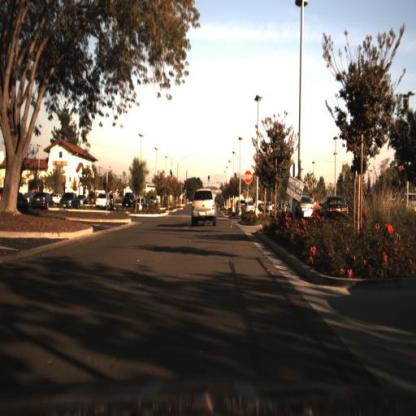car: (317, 188, 354, 227), (191, 190, 221, 232), (283, 189, 316, 227), (58, 188, 80, 212), (31, 191, 53, 212), (95, 190, 111, 211), (121, 190, 137, 209), (135, 193, 147, 213), (148, 192, 159, 213)
trafficLight-Green: (206, 174, 211, 186), (184, 186, 189, 196)
